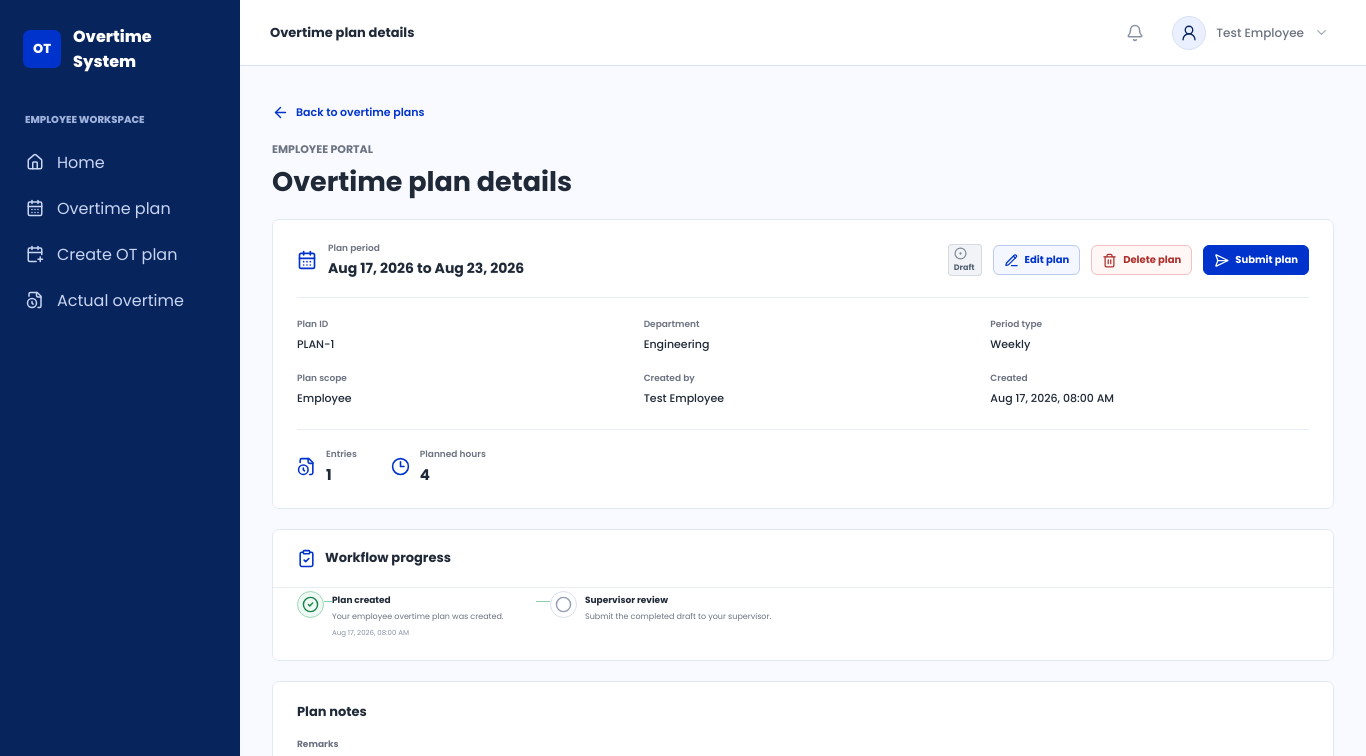
Test case: role-based route protection › loads an employee-visible overtime plan detail
The width and height of the screenshot is (1366, 756).
expect the heading "Overtime plan details" is shown: met, box [272,163,572,200]
expect the heading "Workflow progress" is shown: met, box [325,548,451,568]
Click the button "Submit plan": (1256, 260) [1203,245,1309,275]
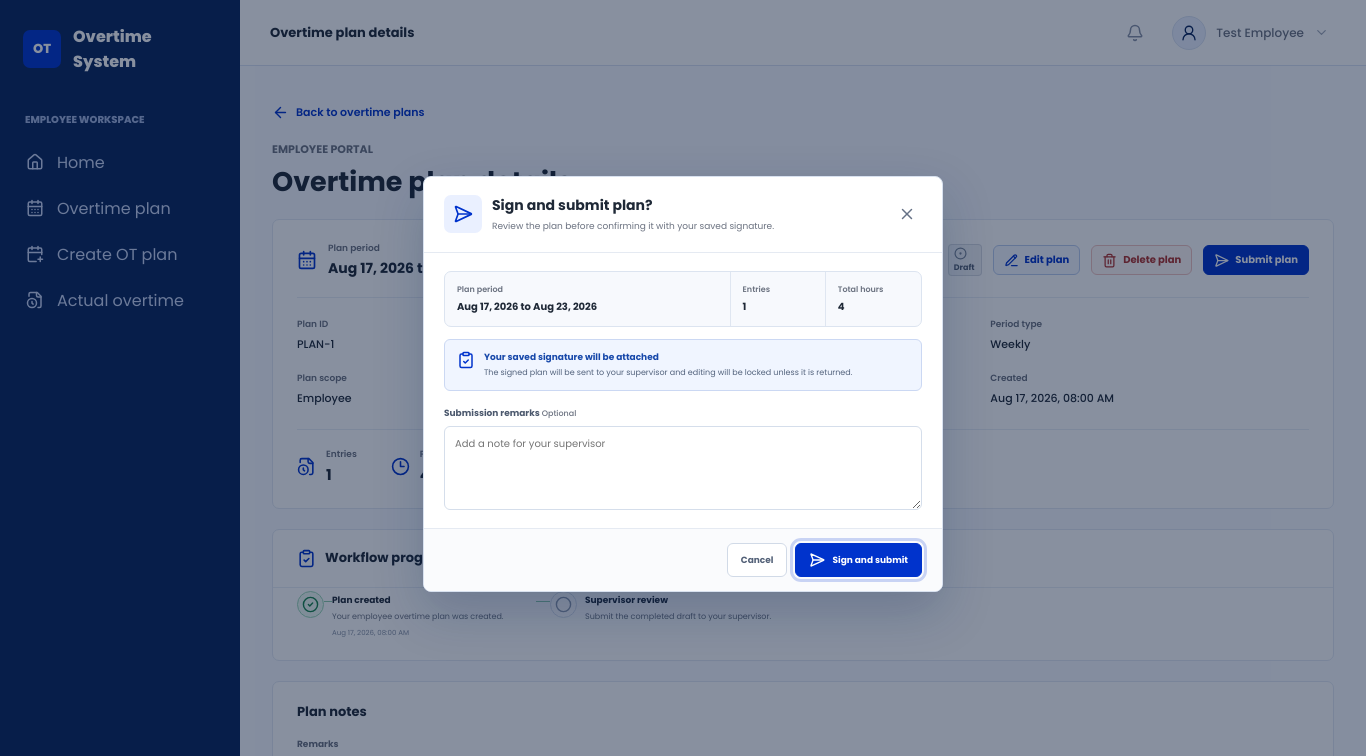
expect the dialog "Sign and submit plan?" is shown: met, box [423,176,943,592]
expect the text "Your saved signature will be attached" is shown: met, box [484,351,659,363]
In the text box labelled "Submission remarks Optional": (683, 468) [444,426,922,510], type "Please review this weekly plan."
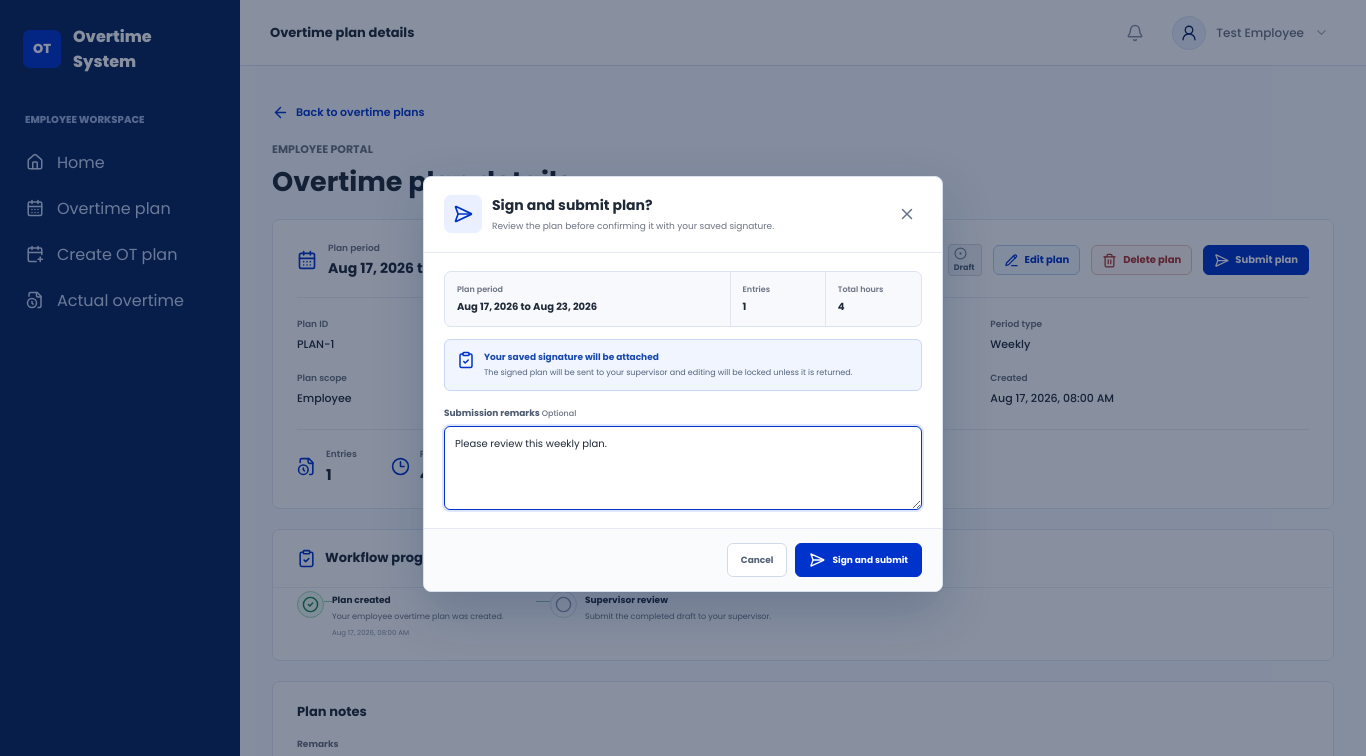
Click the button "Sign and submit": (859, 560) [796,543,922,577]
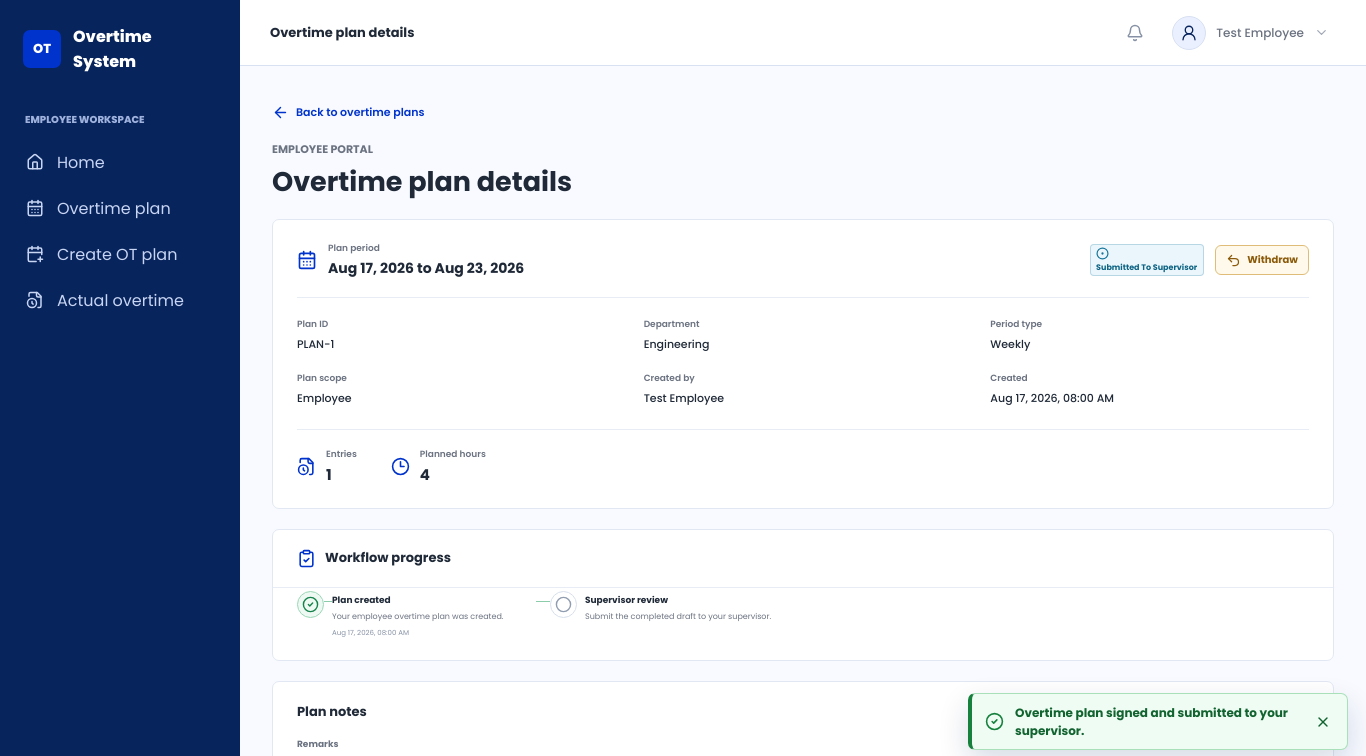
expect the text "Submitted To Supervisor" is shown: met, box [1090,244,1204,276]
expect the link "Edit plan" is gone: met
expect the button "Submit plan" is gone: met
